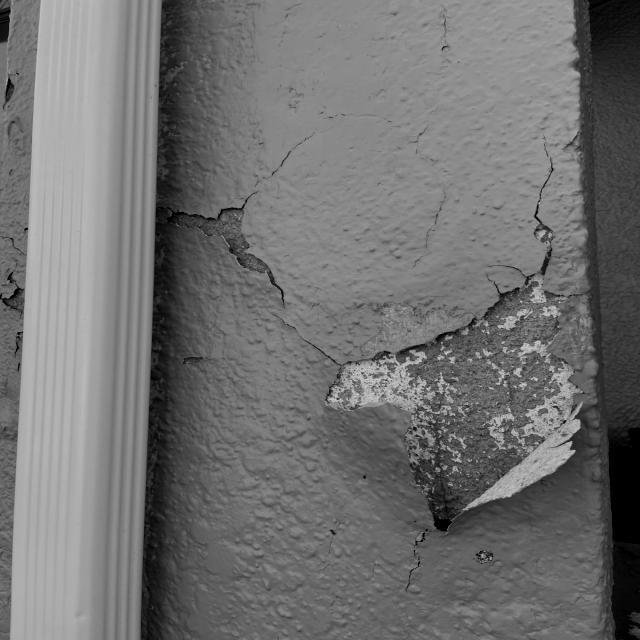peeling paint: (159, 140, 596, 587), (0, 253, 31, 380), (0, 66, 34, 121)
